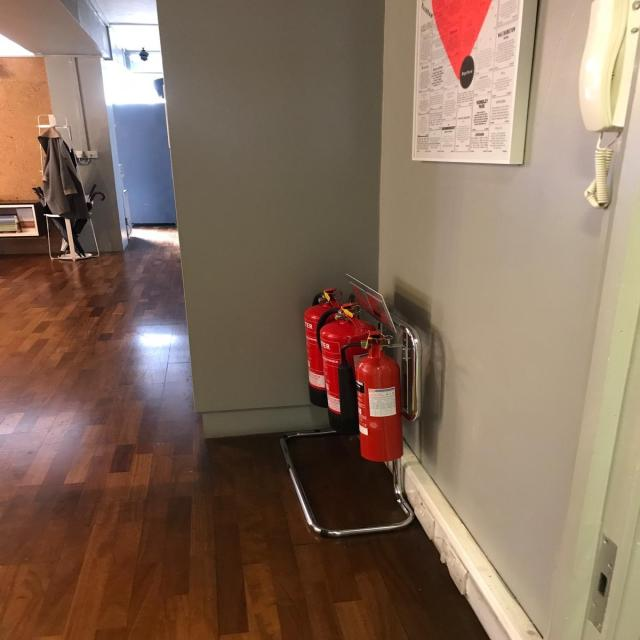fire_extinguisher: (314, 290, 398, 438), (337, 328, 408, 464), (299, 284, 365, 411)
